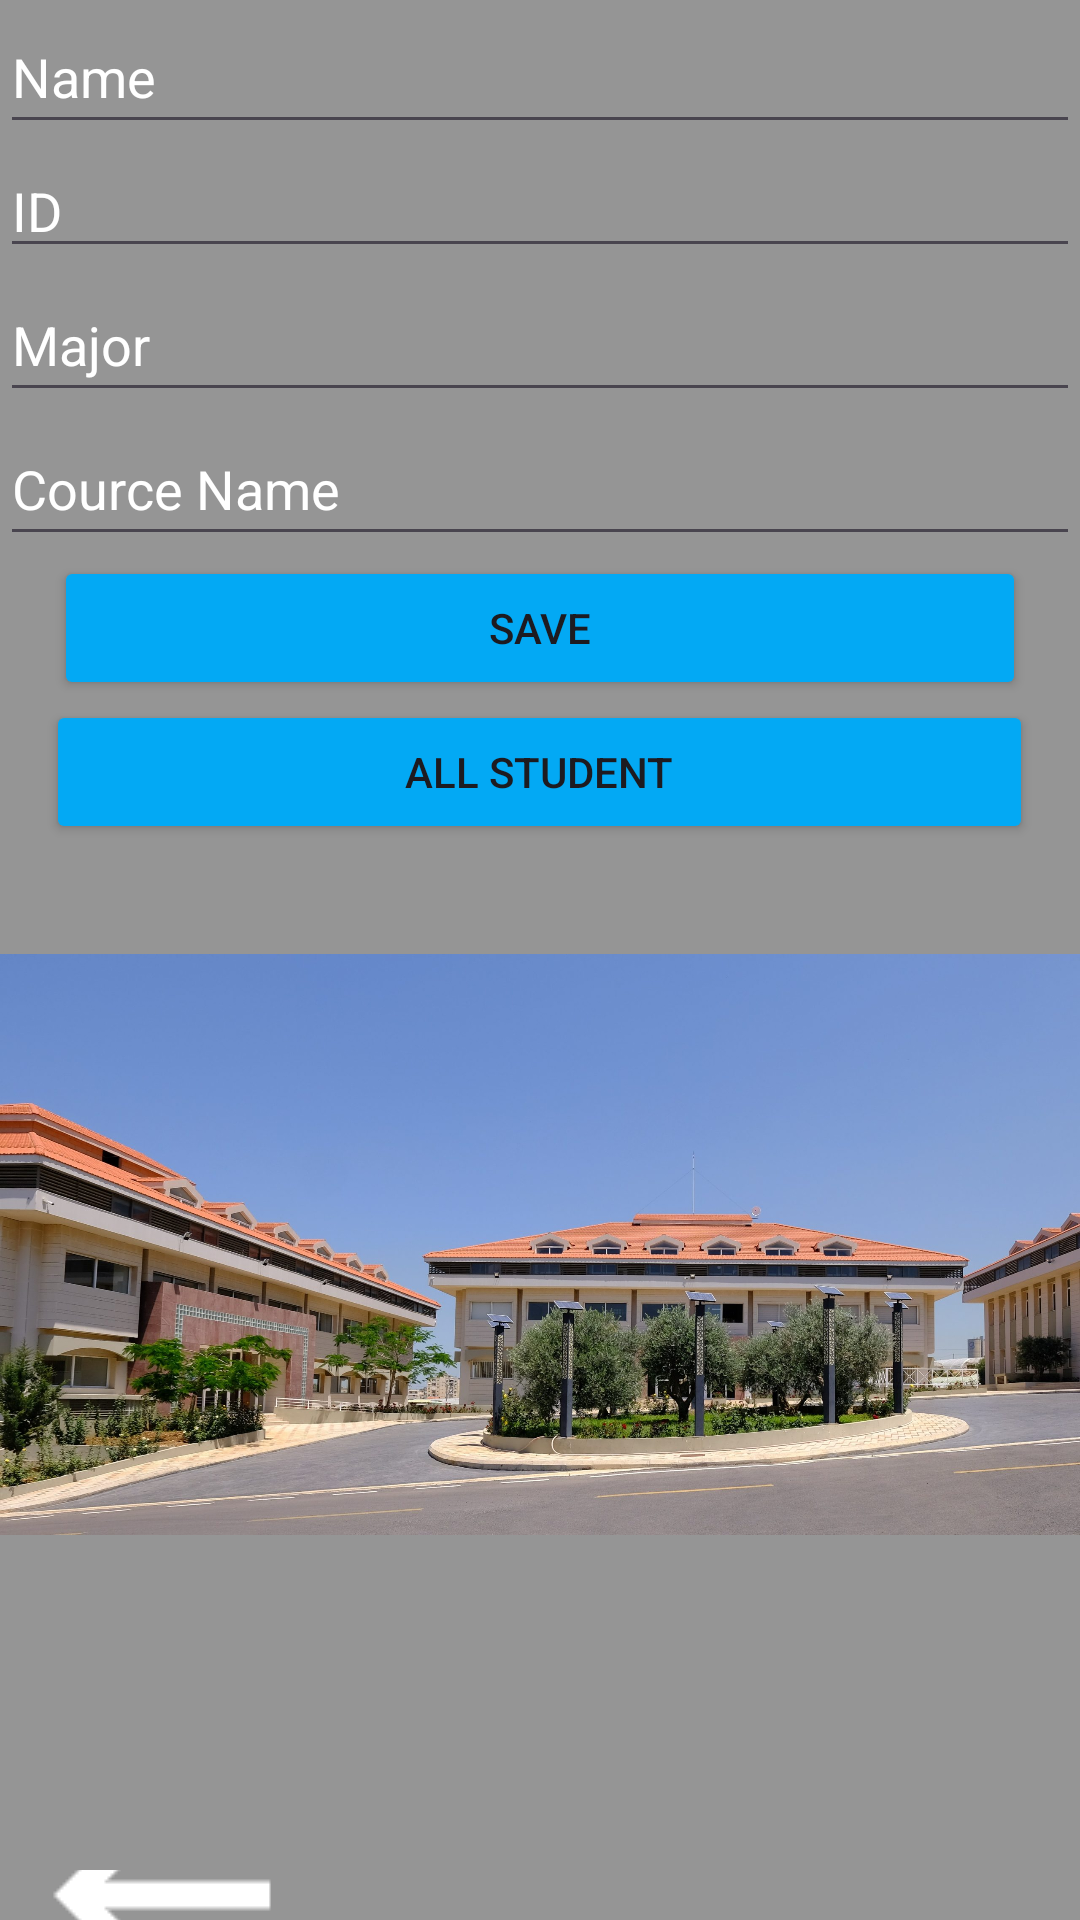

Named icons in this screenshot (1080 x 1920) and their centers, (x=x, y=y):
partielback: (x=162, y=1895)
